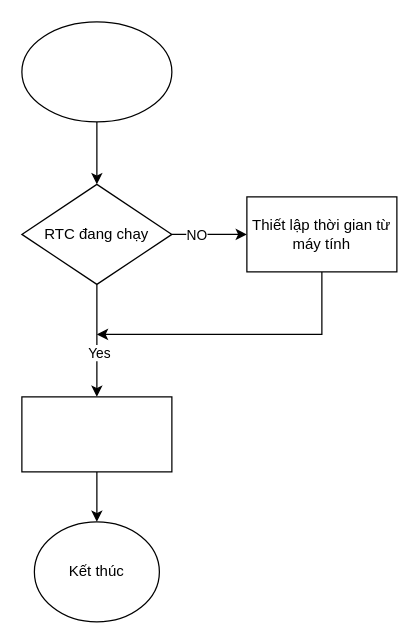
Image size: 419x644. Some labels were removed from this diagram. The centre of each missing label's shape, as x and y in pixels:
"Bắt đầu" belongs at point (96, 71).
"Đọc dữ liệu thời gian" belongs at point (96, 434).
